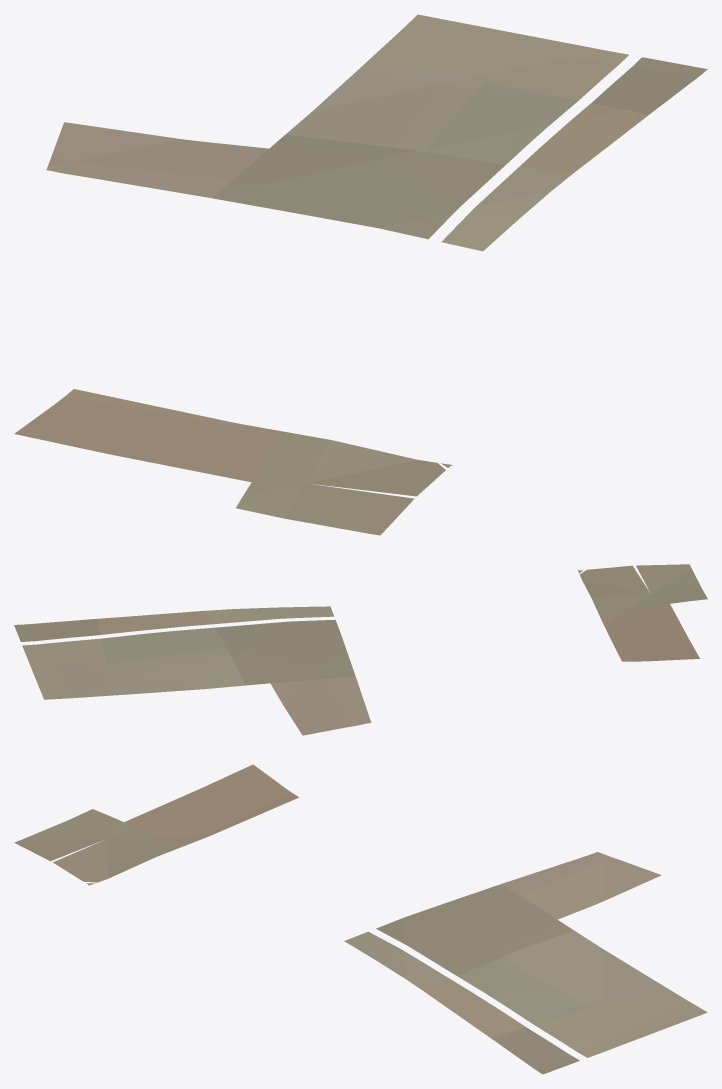
Rendered from farm_21_22_soil.glb.
3 renders of one model, top to bottom at view 1: azimuth 30°, elevation 25°; view 2: azimuth 150°, elevation 25°; view 3: azimuth 270°, elevation 25°, orthographic. The views are drawn at different scales.
Visible parts, largest first — view 1: geometry_0; view 2: geometry_0; view 3: geometry_0.
Boxes of the visible parts, bbox=[...] form: geometry_0: bbox=[14, 14, 707, 535]; geometry_0: bbox=[14, 564, 707, 735]; geometry_0: bbox=[14, 764, 707, 1074].
Bounding box in the file's own units: 580 × 19.66 × 562.
